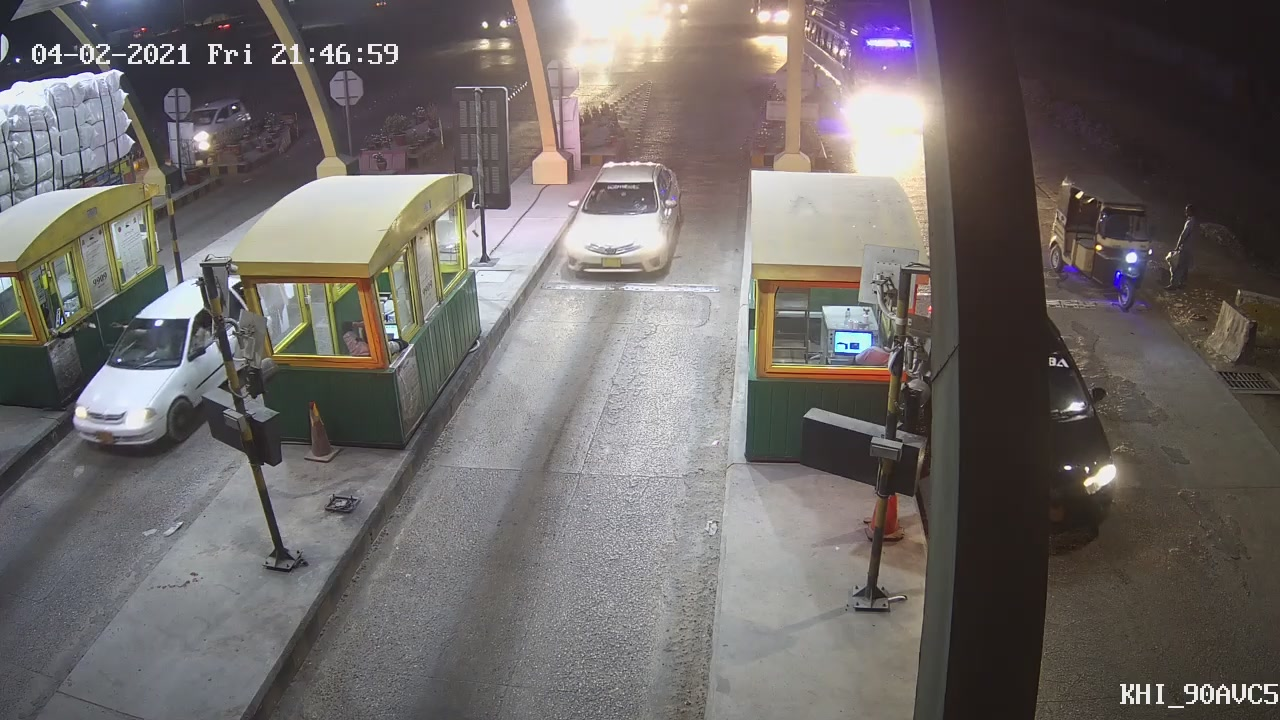F1: (559, 156, 684, 282)
